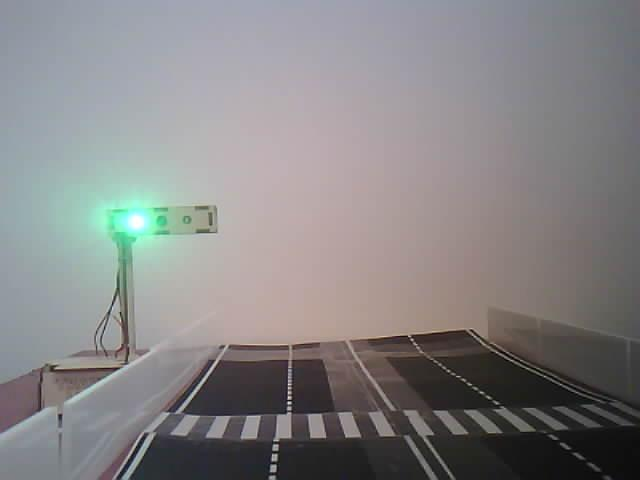crosswalk: (140, 396, 637, 447)
green: (103, 192, 245, 360)
